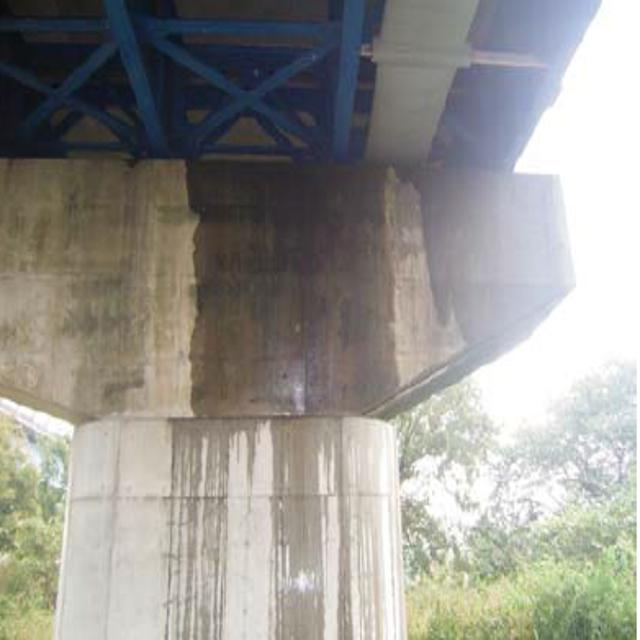leakage: (182, 147, 412, 440), (431, 149, 586, 344)
